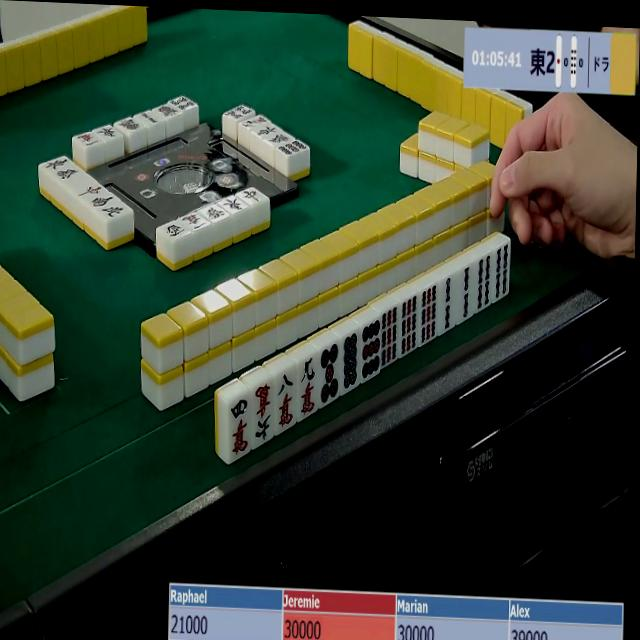2B: (438, 274, 458, 335), (456, 266, 475, 325)
4B: (475, 255, 494, 315), (492, 241, 510, 304)
4C: (225, 395, 254, 462)
5D: (320, 342, 343, 407)
6C: (252, 382, 278, 446)
8C: (273, 369, 299, 433)
8D: (339, 331, 361, 394)
9B: (418, 285, 441, 348), (378, 306, 400, 370), (399, 294, 421, 357)
9C: (297, 354, 320, 420)
9D: (358, 320, 382, 382)
